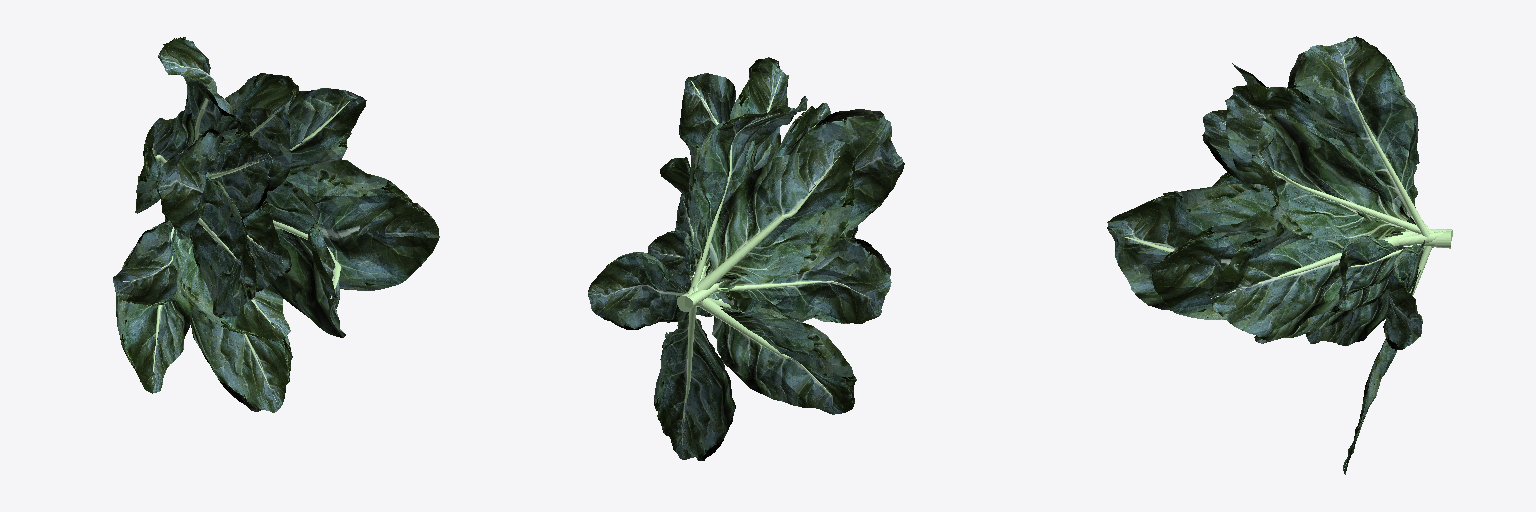
3 renders of one model, left to right at view 1: azimuth 30°, elevation 25°; view 2: azimuth 150°, elevation 25°; view 3: azimuth 270°, elevation 25°, orthographic.
Parts seen in each view (by area): view 1: plant_Plane.093; view 2: plant_Plane.093; view 3: plant_Plane.093.
Boxes of the visible parts, x1=… form: plant_Plane.093: x1=113, y1=37, x2=439, y2=412; plant_Plane.093: x1=588, y1=57, x2=904, y2=460; plant_Plane.093: x1=1107, y1=36, x2=1452, y2=474.
Size of the model in its own units: 0.2489 by 0.3501 by 0.2846.
2 materials, 1 textured.